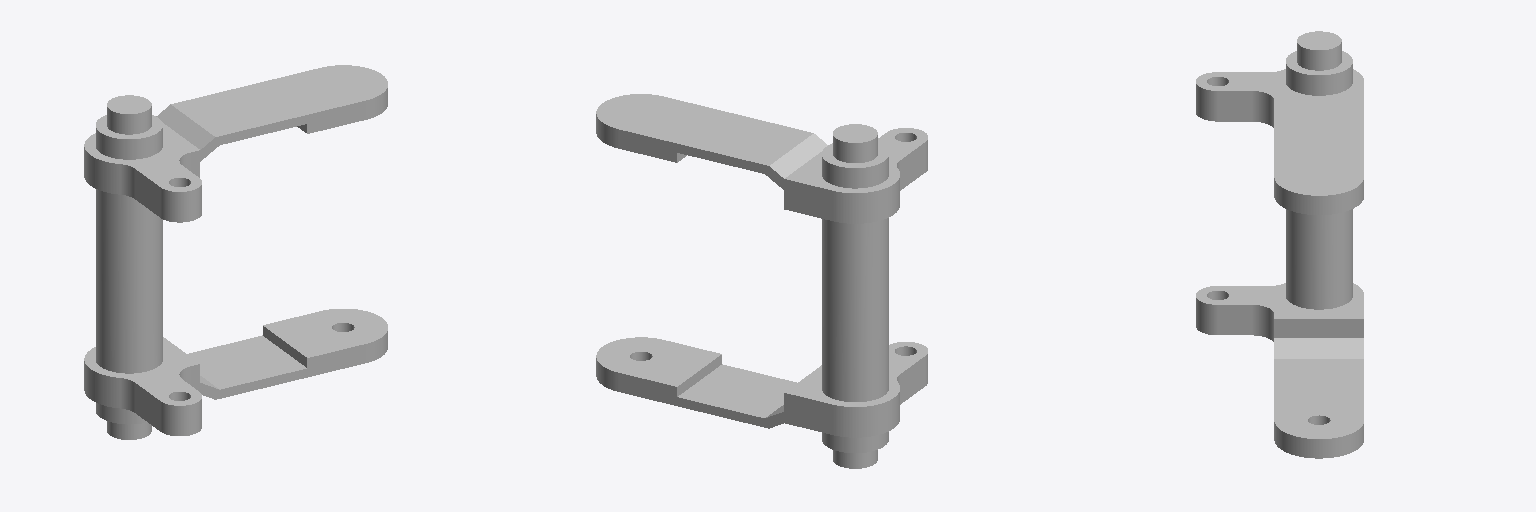
The picture shows the model from 3 angles: view 1: azimuth 30°, elevation 25°; view 2: azimuth 150°, elevation 25°; view 3: azimuth 270°, elevation 25°; orthographic projection.
Visible parts, largest first — view 1: Зеркальное отражение1; view 2: Зеркальное отражение1; view 3: Зеркальное отражение1.
Boxes of the visible parts, box(x1,y1,x2,y2) form: Зеркальное отражение1: box(84, 65, 387, 439); Зеркальное отражение1: box(596, 94, 927, 468); Зеркальное отражение1: box(1196, 31, 1363, 458).
Bounding box in the file's own units: 0.1522 × 0.1624 × 0.0761.